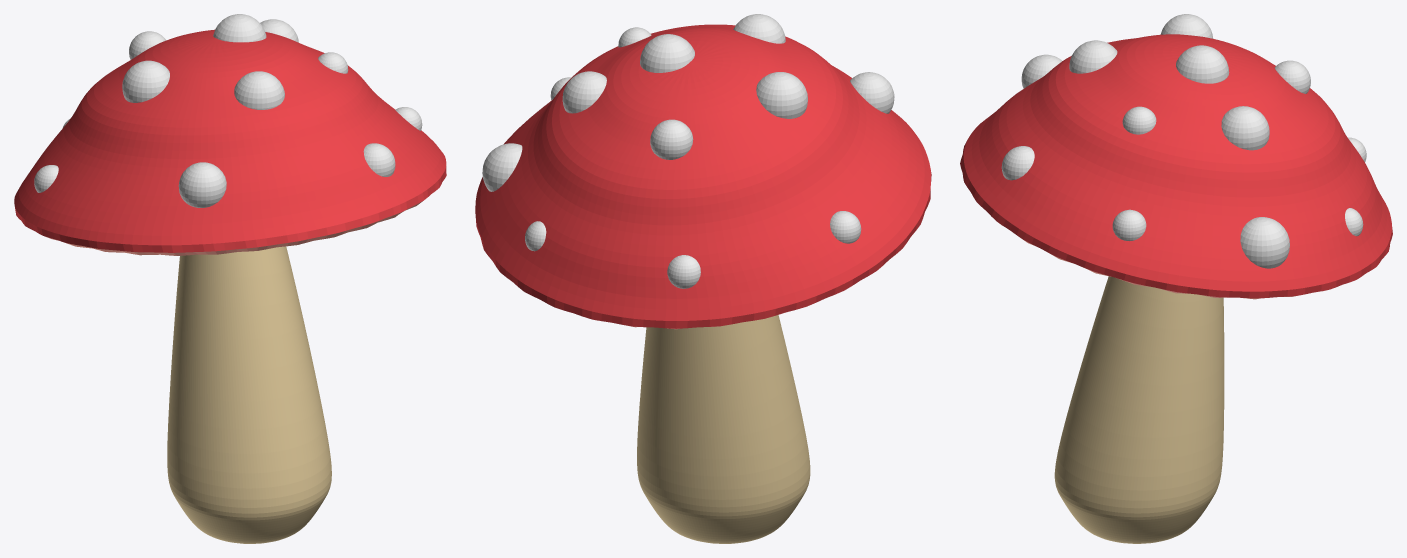
Rendered from cogumelo.fbx.
3 views of the same model, side by side, from view 1: azimuth 30°, elevation 25°; view 2: azimuth 150°, elevation 25°; view 3: azimuth 270°, elevation 25° (orthographic). The views are drawn at different scales.
Visible parts, largest first — view 1: Sphere, Cylinder, Sphere.008, Sphere.010, Sphere.009, Sphere.013, Sphere.007, Sphere.011; view 2: Sphere, Cylinder, Sphere.010, Sphere.013, Sphere.011, Sphere.012, Sphere.005, Sphere.008, Sphere.009, Sphere.004, Sphere.003; view 3: Sphere, Cylinder, Sphere.005, Sphere.012, Sphere.013, Sphere.009, Sphere.010, Sphere.007, Sphere.006, Sphere.011, Sphere.001, Sphere.008.
Boxes of the visible parts, x1,y1,x2,y2 form: Sphere: (14, 29, 446, 255); Cylinder: (167, 246, 331, 543); Sphere.008: (178, 162, 226, 207); Sphere.010: (122, 60, 169, 102); Sphere.009: (234, 71, 284, 109); Sphere.013: (213, 14, 266, 42); Sphere.007: (363, 143, 395, 176); Sphere.011: (129, 31, 166, 59); Sphere: (475, 24, 931, 329); Cylinder: (637, 315, 810, 543); Sphere.010: (756, 72, 807, 118); Sphere.013: (640, 34, 694, 72); Sphere.011: (650, 119, 693, 159); Sphere.012: (562, 71, 606, 113); Sphere.005: (482, 143, 522, 191); Sphere.008: (850, 72, 894, 113); Sphere.009: (733, 14, 785, 43); Sphere.004: (667, 255, 700, 288); Sphere.003: (830, 211, 861, 243); Sphere: (960, 34, 1392, 299); Cylinder: (1054, 276, 1224, 543); Sphere.005: (1240, 217, 1289, 268); Sphere.012: (1221, 106, 1269, 150); Sphere.013: (1176, 45, 1229, 83); Sphere.009: (1069, 40, 1117, 73); Sphere.010: (1160, 14, 1213, 38); Sphere.007: (1001, 146, 1034, 180); Sphere.006: (1112, 209, 1146, 240); Sphere.011: (1274, 60, 1310, 93); Sphere.001: (1122, 106, 1156, 134); Sphere.008: (1021, 54, 1061, 88).
Bounding box in the file's own units: 492 × 600 × 482.
